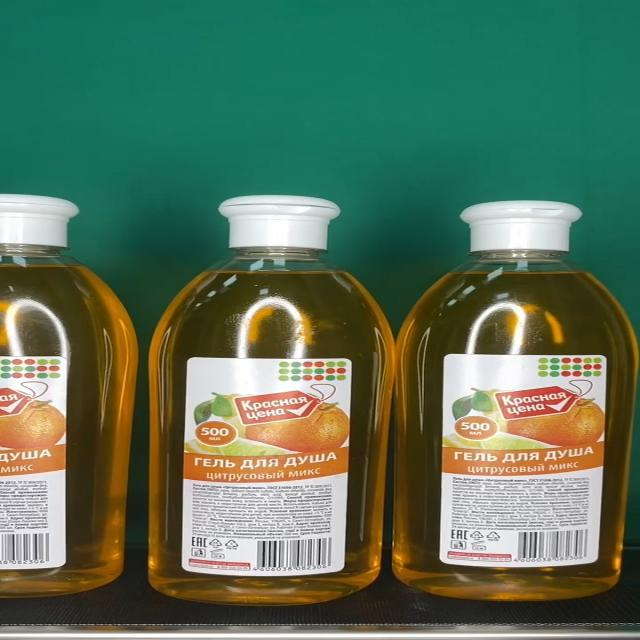Bottle: (148, 196, 396, 605), (393, 200, 638, 600)
Cap: (459, 200, 584, 252), (218, 196, 340, 248)
